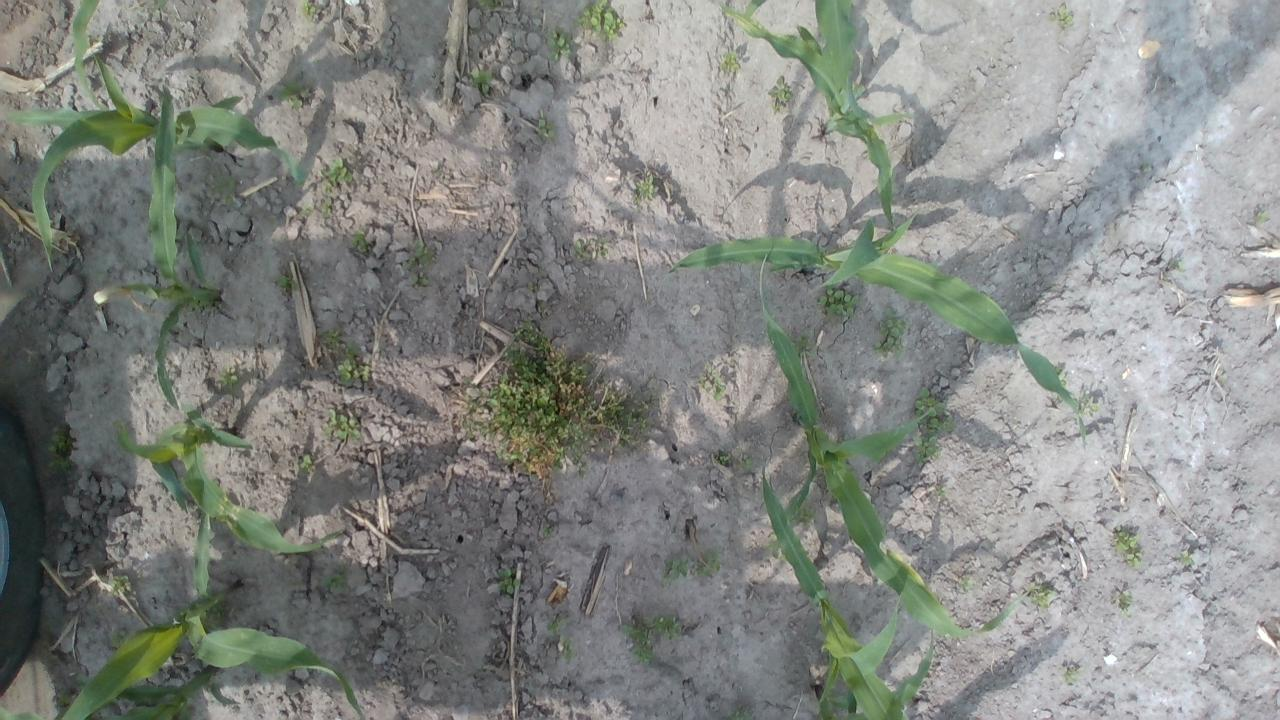Maize: (758, 252, 1030, 642), (666, 206, 1088, 448), (4, 0, 310, 283), (62, 510, 366, 720), (720, 0, 916, 233), (755, 451, 910, 720), (114, 406, 346, 557), (112, 226, 221, 412), (0, 663, 236, 720), (812, 639, 940, 720)
Weeds: (496, 322, 598, 476), (599, 378, 660, 450), (912, 386, 954, 464), (460, 380, 500, 441), (574, 0, 624, 42), (874, 308, 908, 360), (336, 338, 371, 386), (620, 622, 656, 667), (1110, 524, 1146, 569), (818, 287, 860, 324), (322, 406, 362, 442), (403, 240, 432, 286), (542, 26, 576, 63), (276, 80, 314, 111), (698, 364, 726, 402), (1024, 580, 1058, 610), (319, 158, 353, 187), (650, 612, 684, 640), (767, 76, 792, 113), (207, 174, 236, 204), (661, 557, 690, 587), (573, 238, 609, 262), (694, 548, 722, 578), (215, 364, 241, 396), (789, 500, 818, 528), (318, 566, 348, 593), (633, 172, 656, 206), (469, 65, 492, 98), (762, 531, 786, 562), (1049, 2, 1074, 31), (496, 567, 520, 597), (794, 330, 815, 360), (186, 298, 222, 314), (110, 572, 132, 598), (1077, 394, 1101, 416), (320, 326, 342, 350), (1059, 666, 1087, 684), (350, 229, 370, 253), (297, 0, 319, 21), (719, 50, 740, 72), (558, 638, 578, 661), (1118, 590, 1133, 619), (271, 273, 296, 290), (724, 706, 754, 720), (534, 118, 554, 138), (110, 629, 130, 649), (298, 452, 314, 471), (546, 618, 562, 636), (1054, 368, 1067, 390), (1252, 209, 1271, 224), (1167, 258, 1185, 273), (715, 451, 735, 464), (320, 198, 332, 219), (737, 455, 753, 470), (960, 576, 974, 592), (1179, 550, 1193, 566), (301, 200, 313, 216), (478, 0, 497, 10), (294, 177, 306, 189), (935, 484, 946, 497), (543, 527, 554, 537)
